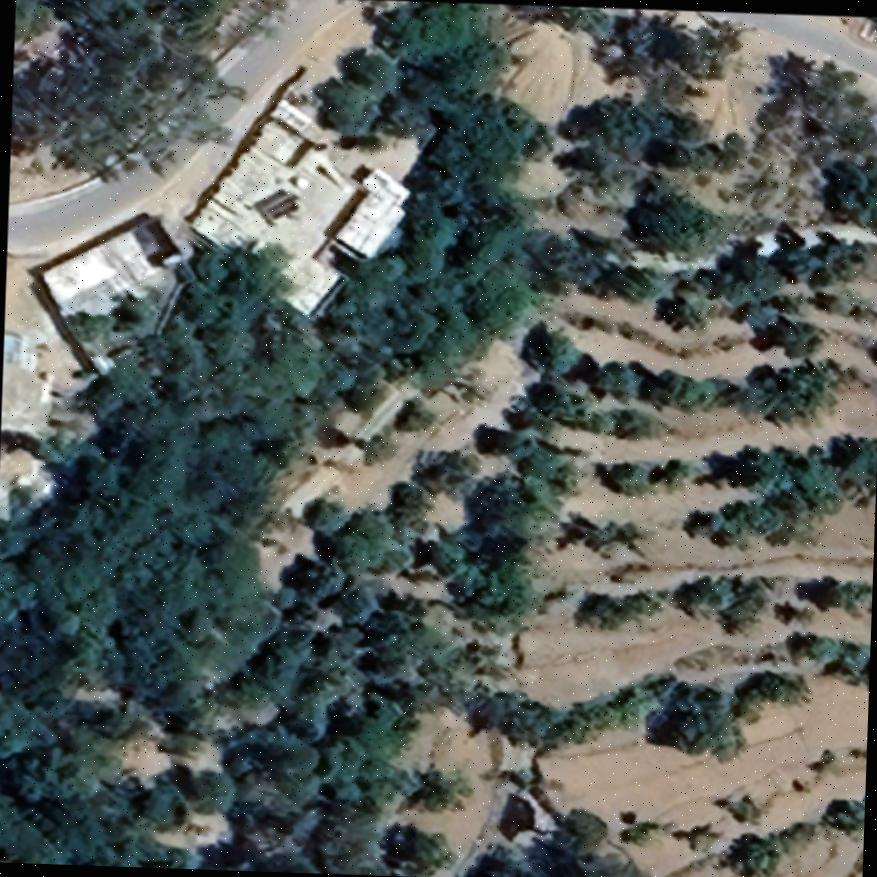Solarpanel: (256, 188, 300, 222)
